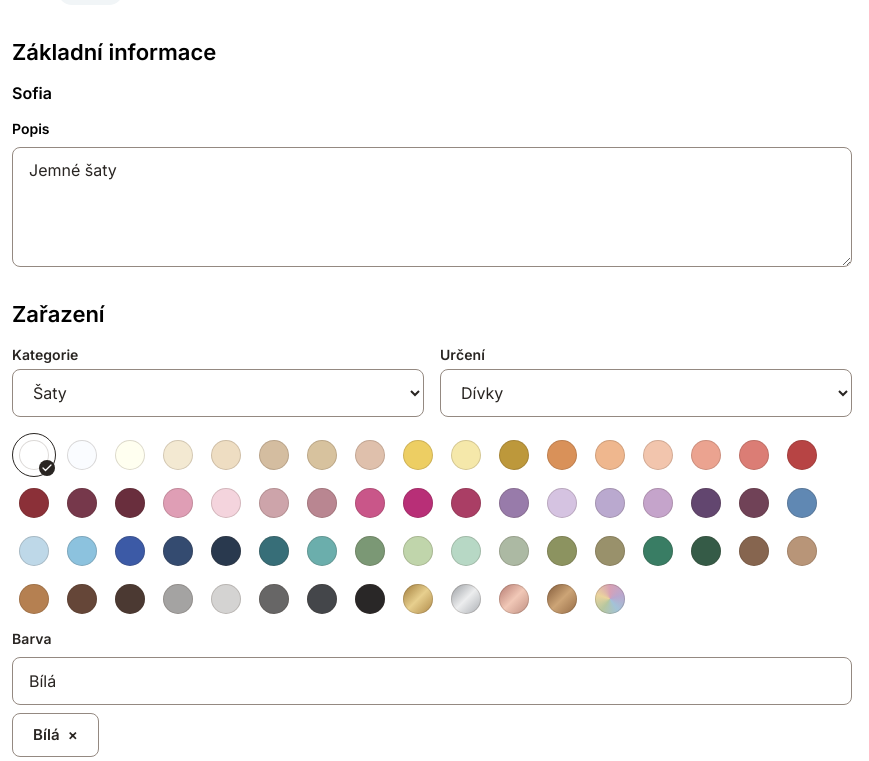
Scenario: failed PATCH preserves current values and dirty state
This screenshot has width=869, height=761.
Replace the text in the field labelled "Barva" with "Růžová" at (432, 681), box [29,669,835,693]
(page scrolled)
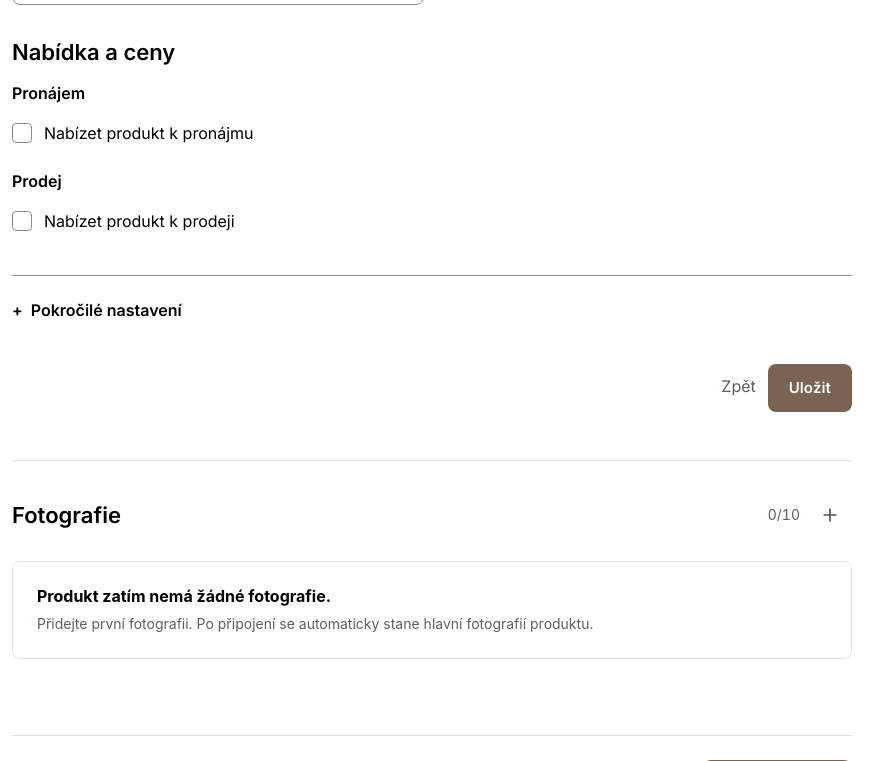
Click the button "Uložit" at (810, 388), box [768,364,852,412]
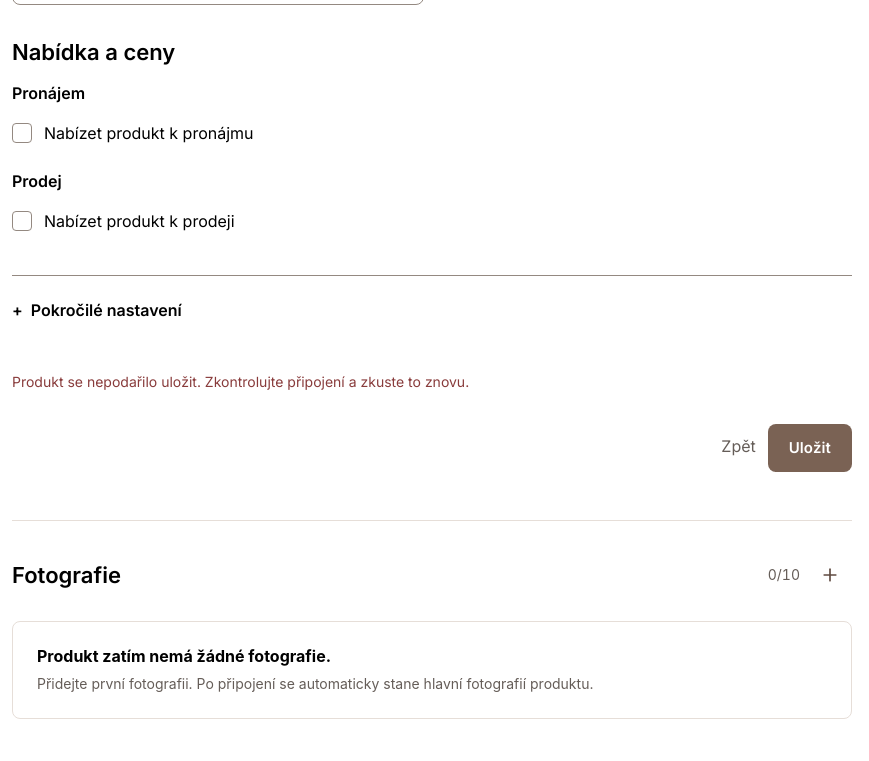
Expected: the button "Uložit" is enabled, [768,424,852,472]
Expected: the text "Produkt se nepodařilo uložit. Zkontrolujte připojení a zkuste to znovu." is shown, [12,373,469,390]
